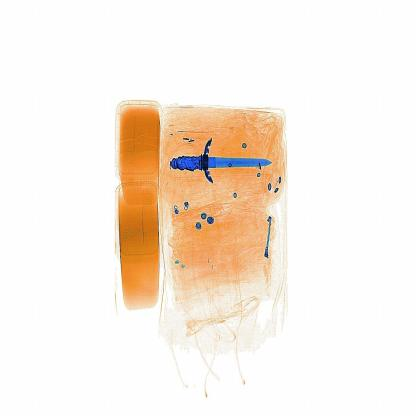wrench: (165, 132, 278, 184)
